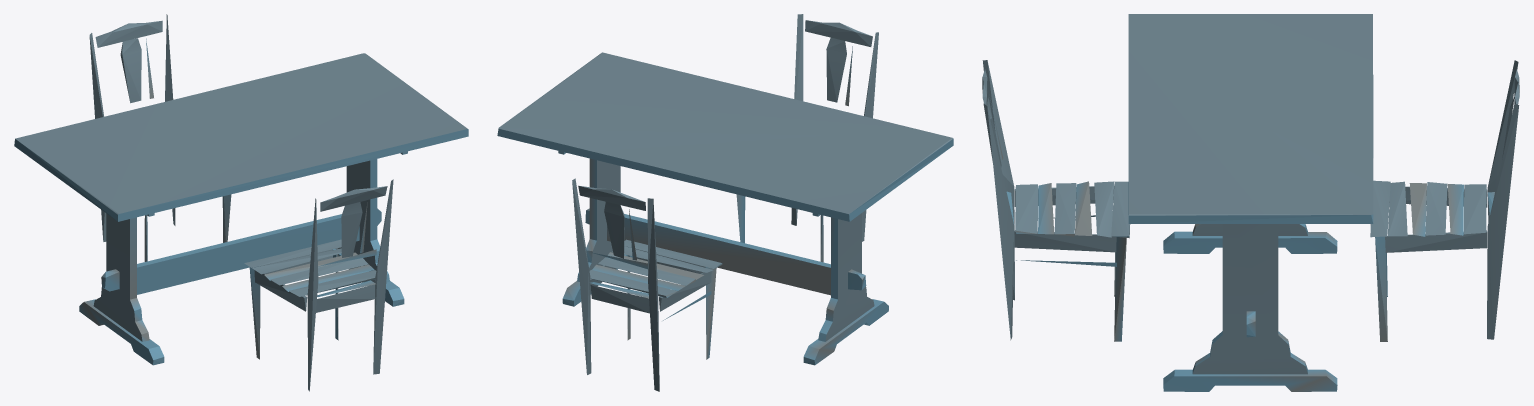
File: dining_set.glb
3 renders of one model, left to right at view 1: azimuth 30°, elevation 25°; view 2: azimuth 150°, elevation 25°; view 3: azimuth 270°, elevation 25°, orthographic. The views are drawn at different scales.
Visible parts, largest first — view 1: dining_set; view 2: dining_set; view 3: dining_set.
Boxes of the visible parts, x1,y1,x2,y2 form: dining_set: (14, 14, 468, 391); dining_set: (497, 14, 953, 391); dining_set: (982, 14, 1519, 391).
Bounding box in the file's own units: 1.6 × 0.88 × 1.8.
